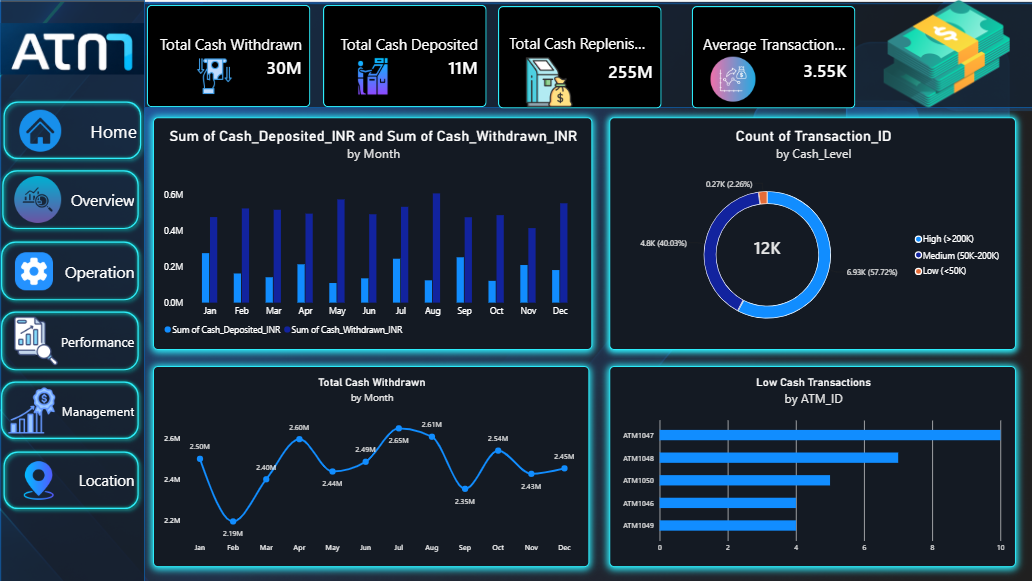

This screenshot's page, from the dashboard's own definition file:
{"tool":"powerbi","page":{"name":"management","canvas":[1920,1080],"ordinal":4},"visuals":[{"type":"lineChart","fields":{"Category":["ATM_Transactions.Month"],"Y":["ATM_Transactions.Total Cash Withdrawn"]},"box":[372.6,656.6,706,325.2],"z":0},{"type":"donutChart","fields":{"Category":["ATM_Transactions.Cash_Level"],"Y":["CountNonNull(ATM_Transactions.Transaction_ID)"]},"box":[1111.5,253.2,658.7,376.7],"z":1000},{"type":"barChart","fields":{"Category":["ATM_Master.ATM_ID"],"Y":["ATM_Transactions.Low Cash Transactions"]},"box":[1111.5,656.6,658.7,325.2],"z":2000},{"type":"shape","box":[125.5,62.7,233.4,942.8],"z":3000},{"type":"shape","box":[121.4,218.2,240.8,111.1],"z":4000},{"type":"shape","box":[119.4,329.3,238.8,113.2],"z":5000},{"type":"shape","box":[117.3,444.6,240.8,113.2],"z":6000},{"type":"shape","box":[117.3,557.8,240.8,113.2],"z":7000},{"type":"shape","box":[117.3,671,240.8,111.1],"z":8000},{"type":"shape","box":[121.4,784.2,236.7,111.1],"z":9000},{"type":"image","box":[125.6,49.4,232.6,187.3],"z":10000},{"type":"shape","box":[358.1,67.9,1440.8,168.8],"z":11000},{"type":"cardVisual","fields":{"Data":["ATM_Transactions.Total Cash Withdrawn"]},"box":[362.3,70,265.5,166.7],"z":12000},{"type":"cardVisual","fields":{"Data":["ATM_Master.Total Cash Deposited"]},"box":[648.4,70,265.5,166.7],"z":13000},{"type":"cardVisual","fields":{"Data":["ATM_Master.Total Cash Replenishment"]},"box":[930.4,72,265.5,166.7],"z":14000},{"type":"cardVisual","fields":{"Data":["ATM_Master.Average Transaction Amount"]},"box":[1245.3,72,265.5,166.7],"z":15000},{"type":"image","box":[689.5,156.4,76.2,61.7],"z":16000},{"type":"image","box":[432.2,156.4,78.2,61.7],"z":17000},{"type":"image","box":[1543.7,49.4,226.4,203.8],"z":18000},{"type":"clusteredColumnChart","fields":{"Category":["ATM_Transactions.Month"],"Y":["Sum(ATM_Transactions.Cash_Deposited_INR)","Sum(ATM_Transactions.Cash_Withdrawn_INR)"]},"box":[372.6,253.2,711,376.5],"z":19000},{"type":"image","box":[156.4,236.7,67.9,76.2],"z":20000},{"type":"image","box":[148.2,347.9,76.2,76.2],"z":21000},{"type":"image","box":[141.7,471.5,76.2,61.7],"z":22000},{"type":"image","box":[141.7,574.7,83,80.9],"z":23000},{"type":"image","box":[141.7,805.4,91.1,70.8],"z":24000},{"type":"image","box":[115.3,688,121.4,78.9],"z":25000},{"type":"image","box":[1274.9,143.7,72.9,95.1],"z":25001},{"type":"image","box":[965.3,155.8,97.1,80.9],"z":25002}]}

Visuals, with their boxes in screenshot pixels (x1, y1, x2, y2), scaled from the page's 1920x1080 canvas onto the 1032x581 screenshot:
lineChart - ATM_Transactions.Month x ATM_Transactions.Total Cash Withdrawn: select_region(200, 353, 580, 528)
donutChart - ATM_Transactions.Cash_Level x CountNonNull(ATM_Transactions.Transaction_ID): select_region(597, 136, 951, 339)
barChart - ATM_Master.ATM_ID x ATM_Transactions.Low Cash Transactions: select_region(597, 353, 951, 528)
shape: select_region(67, 34, 193, 541)
shape: select_region(65, 117, 195, 177)
shape: select_region(64, 177, 193, 238)
shape: select_region(63, 239, 192, 300)
shape: select_region(63, 300, 192, 361)
shape: select_region(63, 361, 192, 421)
shape: select_region(65, 422, 192, 482)
image: select_region(68, 27, 193, 127)
shape: select_region(192, 37, 967, 127)
cardVisual - ATM_Transactions.Total Cash Withdrawn: select_region(195, 38, 337, 127)
cardVisual - ATM_Master.Total Cash Deposited: select_region(349, 38, 491, 127)
cardVisual - ATM_Master.Total Cash Replenishment: select_region(500, 39, 643, 128)
cardVisual - ATM_Master.Average Transaction Amount: select_region(669, 39, 812, 128)
image: select_region(371, 84, 412, 117)
image: select_region(232, 84, 274, 117)
image: select_region(830, 27, 951, 136)
clusteredColumnChart - ATM_Transactions.Month x Sum(ATM_Transactions.Cash_Deposited_INR): select_region(200, 136, 582, 339)
image: select_region(84, 127, 121, 168)
image: select_region(80, 187, 121, 228)
image: select_region(76, 254, 117, 287)
image: select_region(76, 309, 121, 353)
image: select_region(76, 433, 125, 471)
image: select_region(62, 370, 127, 413)
image: select_region(685, 77, 724, 128)
image: select_region(519, 84, 571, 127)
